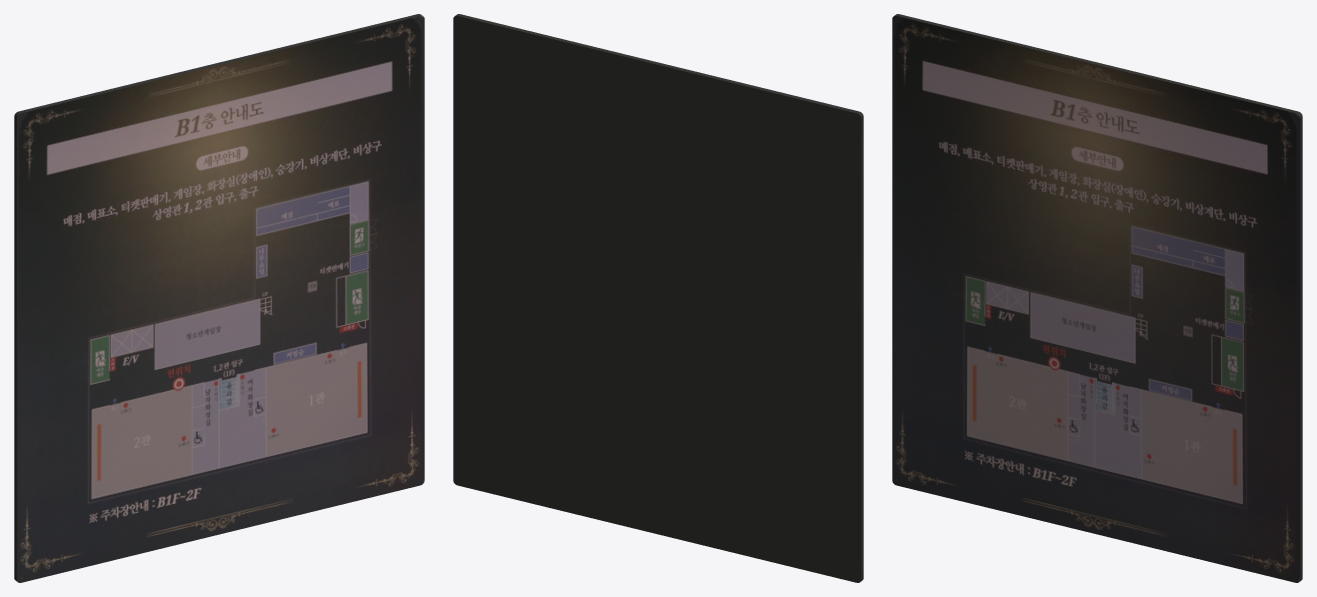
File: LC_3113_Guide_Map_LOD3.fbx
3 views of the same model, side by side, from view 1: azimuth 30°, elevation 25°; view 2: azimuth 150°, elevation 25°; view 3: azimuth 330°, elevation 25° (orthographic).
Visible parts, largest first — view 1: LC_3113_GM_LOD3; view 2: LC_3113_GM_LOD3; view 3: LC_3113_GM_LOD3.
Part boxes in pixels (x1,y1,x2,y2): LC_3113_GM_LOD3: [14, 14, 424, 582]; LC_3113_GM_LOD3: [453, 14, 863, 582]; LC_3113_GM_LOD3: [892, 14, 1302, 582].
Bounding box in the file's own units: 103 × 114 × 1.12.
1 material, 1 textured.
